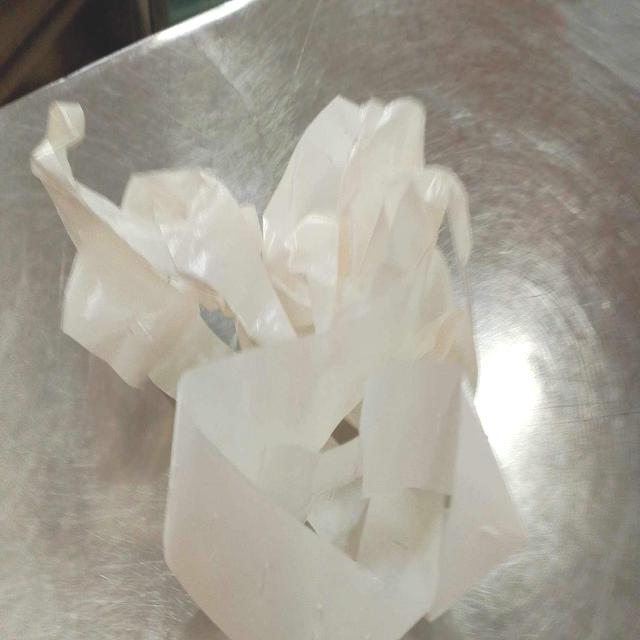Infectious: (30, 90, 527, 637)
